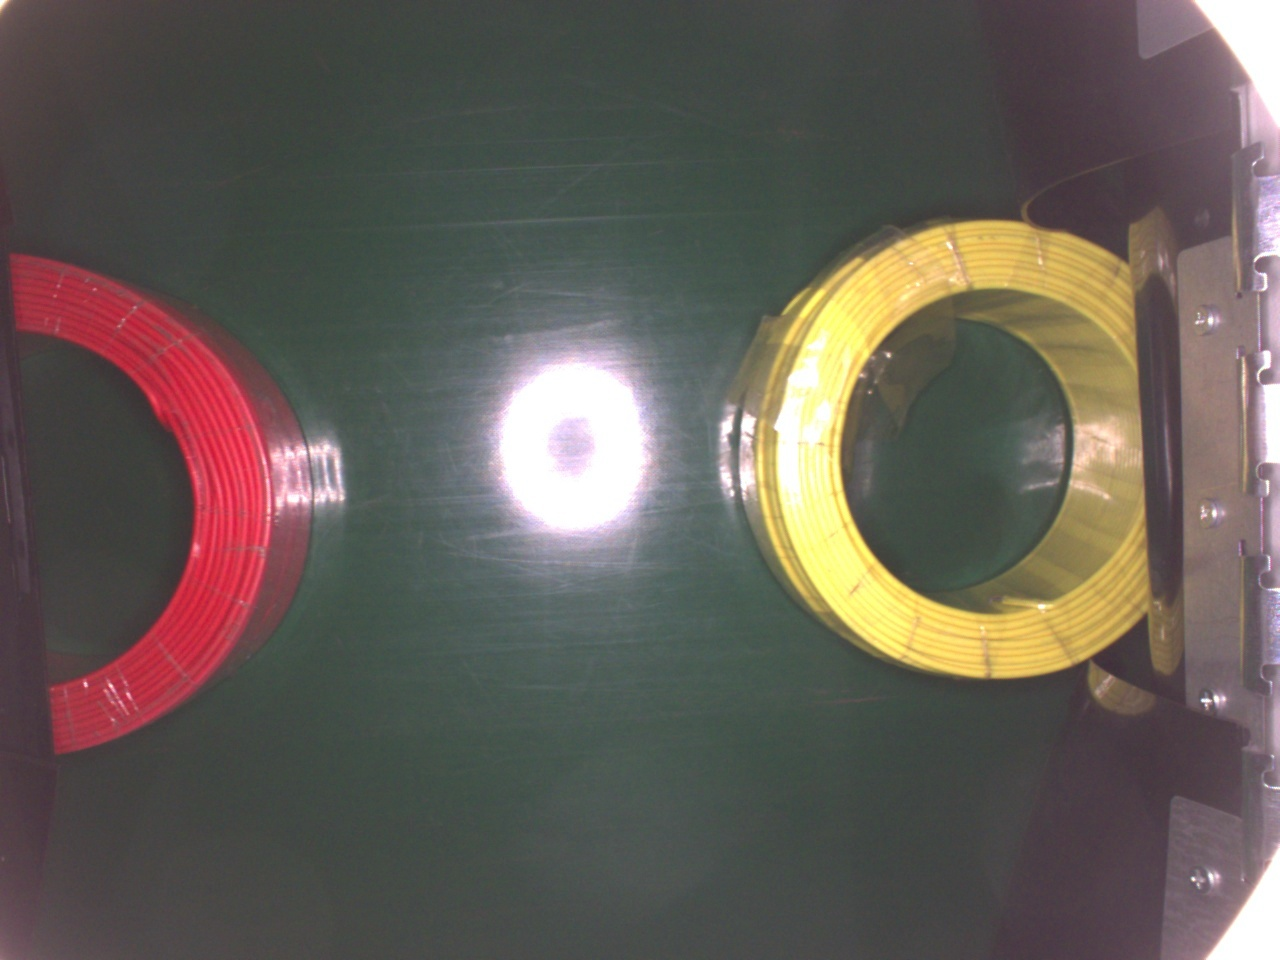red: (5, 248, 318, 755)
yellow: (734, 213, 1147, 676)
